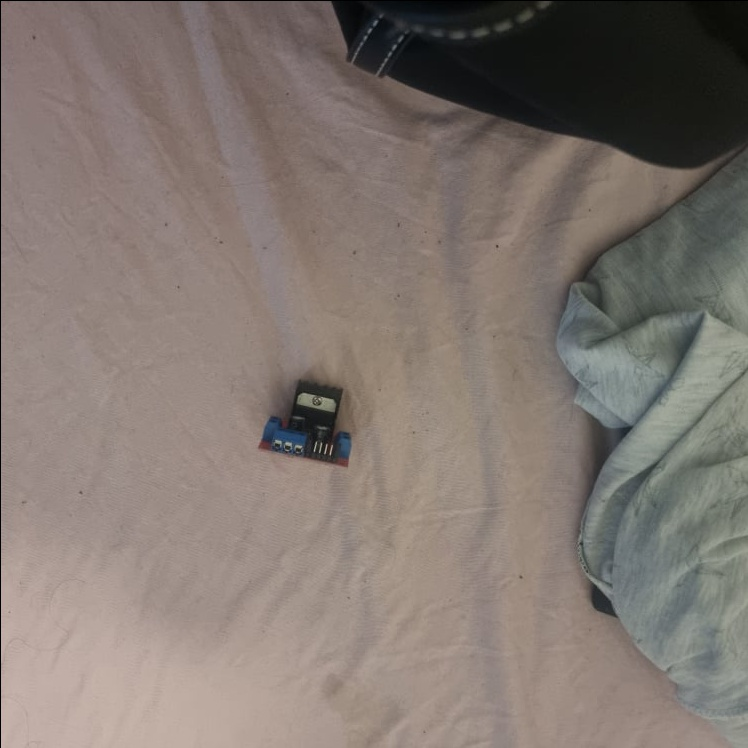MOTOR: (256, 378, 358, 471)
